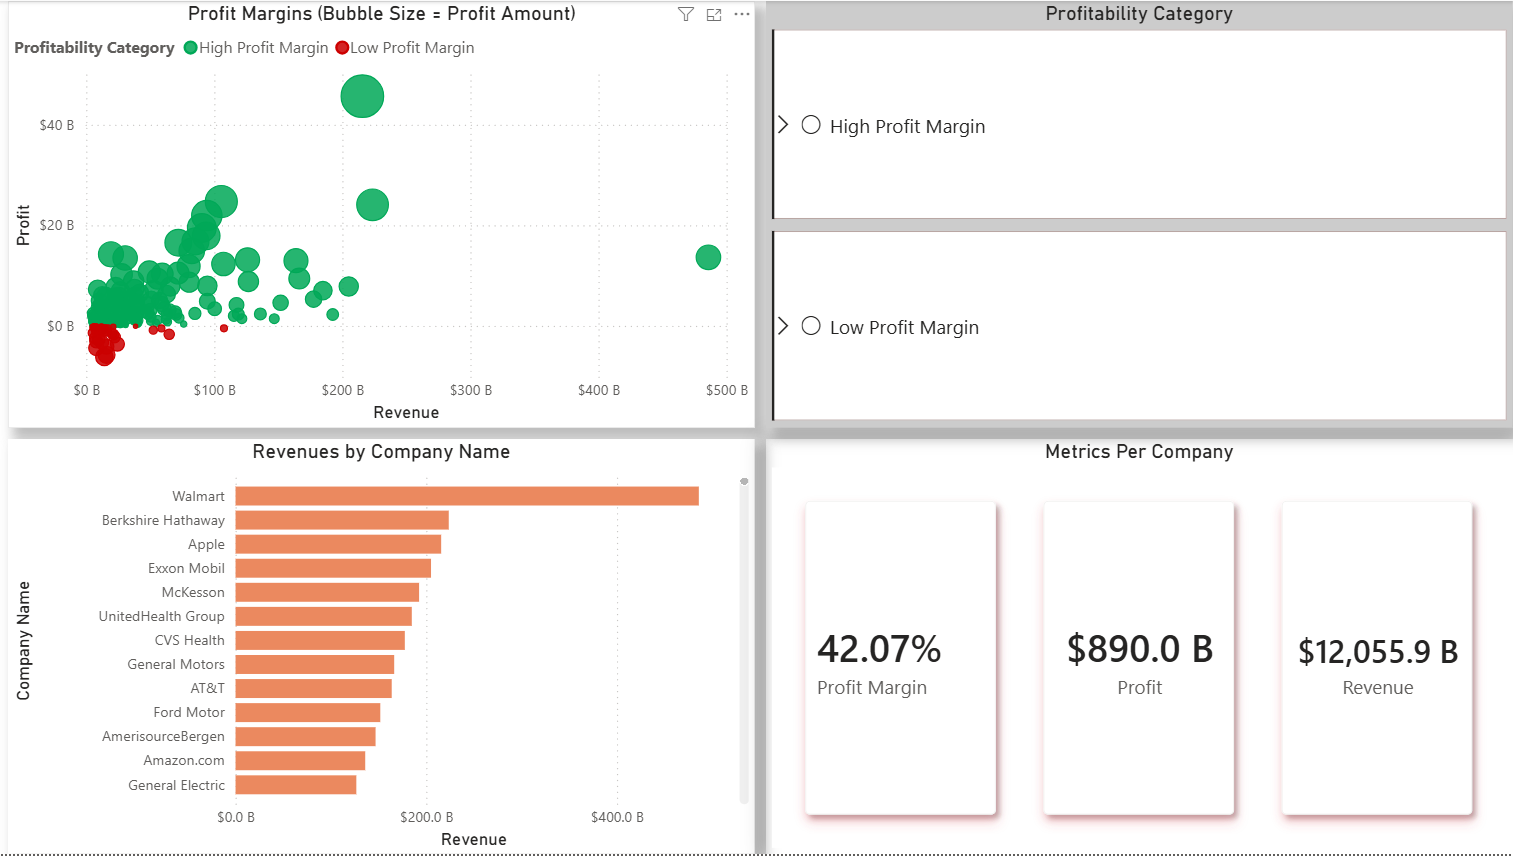

The dashboard page shown, as its layout file describes it:
{"tool":"powerbi","page":{"name":"Page 1","canvas":[1280,720],"ordinal":0},"visuals":[{"type":"scatterChart","title":"Profit Margins (Bubble Size = Profit Amount)","fields":{"X":["Fortune100_eval.Revenue_B"],"Series":["Fortune100_eval.Profitability_Category"],"Size":["Sum(Fortune100_eval.Profit_B)"],"Y":["Sum(Fortune100_eval.Profit_B)"]},"box":[9.7,0,630.3,359.9],"z":0},{"type":"barChart","title":"Revenues by Company Name","fields":{"Category":["Fortune100_eval.Company Name"],"Y":["Sum(Fortune100_eval.Revenue_B)"]},"box":[9.7,369.6,630.3,350.2],"z":1000},{"type":"cardVisual","title":"Metrics Per Company","fields":{"Data":["Avg(Fortune100_eval.ScaledPM)","Sum(Fortune100_eval.Profit_B)","Sum(Fortune100_eval.Revenue_B)"]},"box":[649.7,369.6,630.3,350.2],"z":2000},{"type":"listSlicer","fields":{"Values":["Fortune100_eval.Profitability_Category","Fortune100_eval.Company Name","Fortune100_eval.Market Value"]},"box":[649.7,0,630.3,359.9],"z":3000}]}

Visuals, with their boxes in screenshot pixels (x1, y1, x2, y2), scaled from the page's 1280x720 canvas onto the 1513x859 screenshot:
"Profit Margins (Bubble Size = Profit Amount)" scatterChart: [x1=11, y1=0, x2=756, y2=429]
"Revenues by Company Name" barChart: [x1=11, y1=441, x2=756, y2=858]
"Metrics Per Company" cardVisual: [x1=768, y1=441, x2=1512, y2=858]
listSlicer - Fortune100_eval.Profitability_Category x Fortune100_eval.Company Name: [x1=768, y1=0, x2=1512, y2=429]
